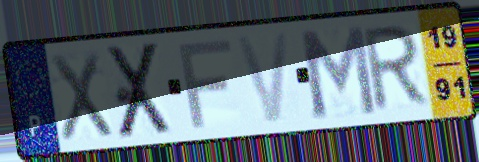F: (175, 36, 234, 131)
M: (294, 22, 380, 121)
R: (361, 21, 433, 115)
V: (233, 29, 292, 127)
X: (105, 38, 176, 143), (47, 48, 117, 145)
